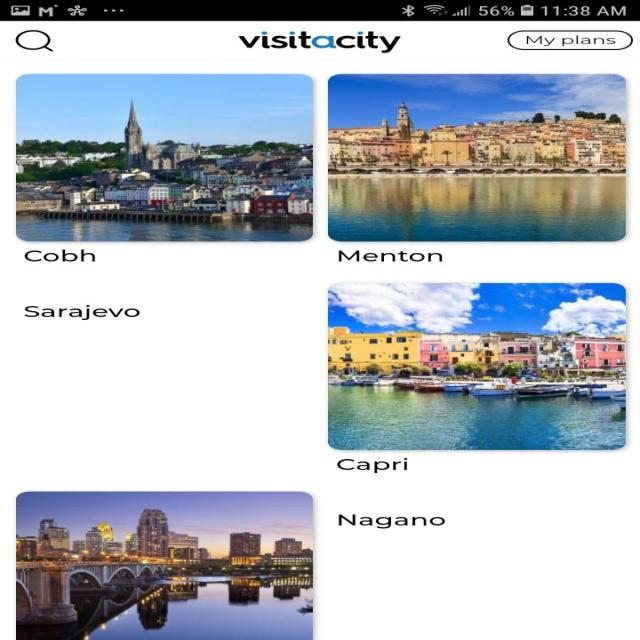Icon: (15, 30, 53, 52)
Image: (327, 282, 626, 450), (328, 74, 626, 242), (16, 74, 313, 242), (15, 490, 313, 640), (238, 31, 401, 53)
Text: (23, 304, 140, 320), (338, 514, 446, 528), (338, 250, 442, 262), (336, 458, 408, 473), (24, 249, 96, 262)
TextButton: (507, 30, 633, 50)
